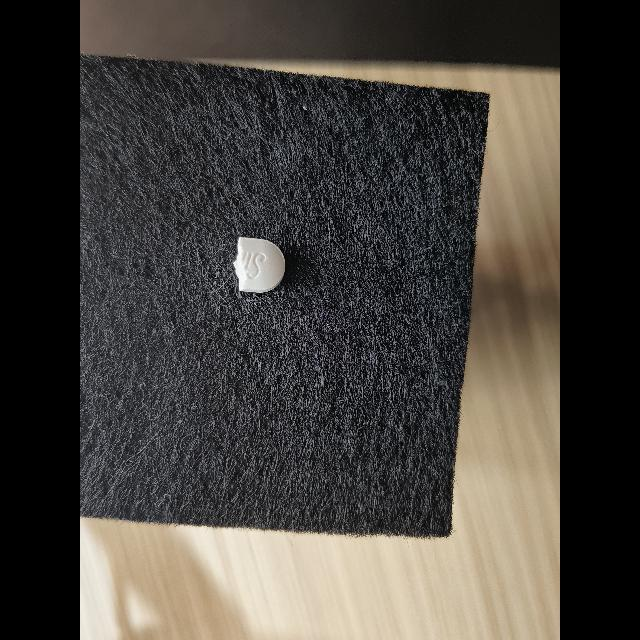Chipped Pill: (233, 237, 285, 293)
